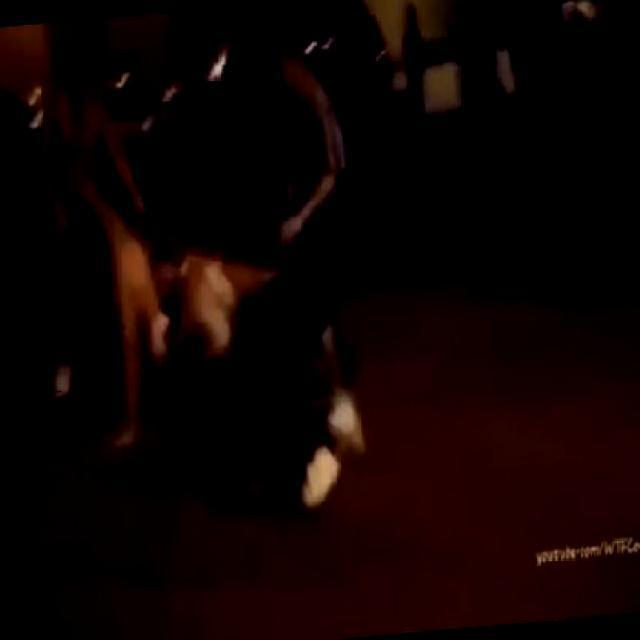fight: (96, 218, 307, 472)
